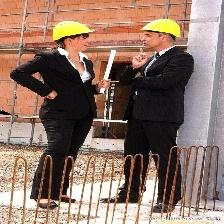Person: (17, 15, 109, 214), (115, 14, 205, 214)
helmet: (139, 18, 191, 39), (50, 21, 95, 42)
no-vest: (34, 51, 100, 145), (128, 53, 196, 137)
